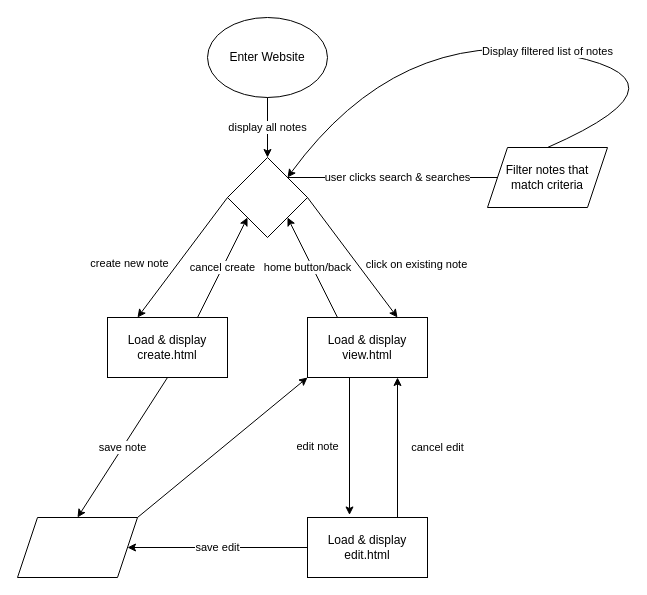
The diagram is 647 pixels wide and 595 high, and some of its shapes have lost their labels. The centre of each missing label's shape, as x and y in pixels:
"Display hom.html" goes at [267,197].
"Save data" goes at [77,547].
